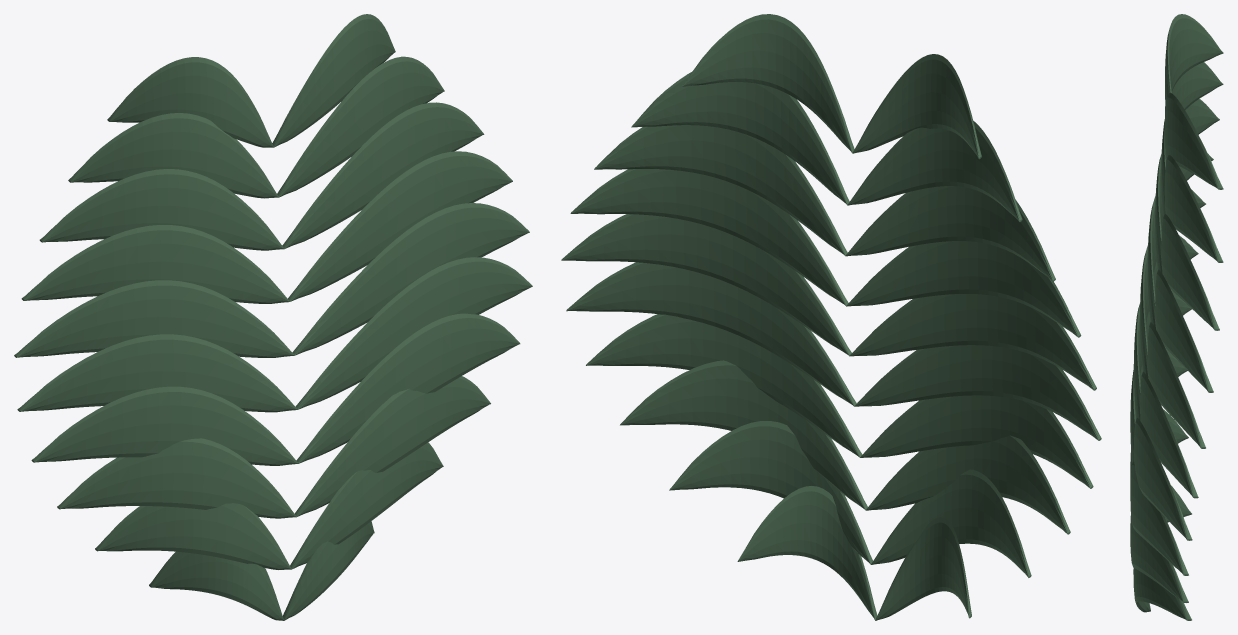
File: memory-frond--leaf.glb
The picture shows the model from 3 angles, left to right: view 1: azimuth 30°, elevation 25°; view 2: azimuth 150°, elevation 25°; view 3: azimuth 270°, elevation 25°; orthographic projection. The views are drawn at different scales.
Parts seen in each view (by area): view 1: memory-frond; view 2: memory-frond; view 3: memory-frond.
Boxes of the visible parts, x1,y1,x2,y2 form: memory-frond: [14, 14, 532, 620]; memory-frond: [561, 14, 1101, 620]; memory-frond: [1130, 14, 1223, 620].
Size of the model in its own units: 2.94 by 3.13 by 0.4761.
